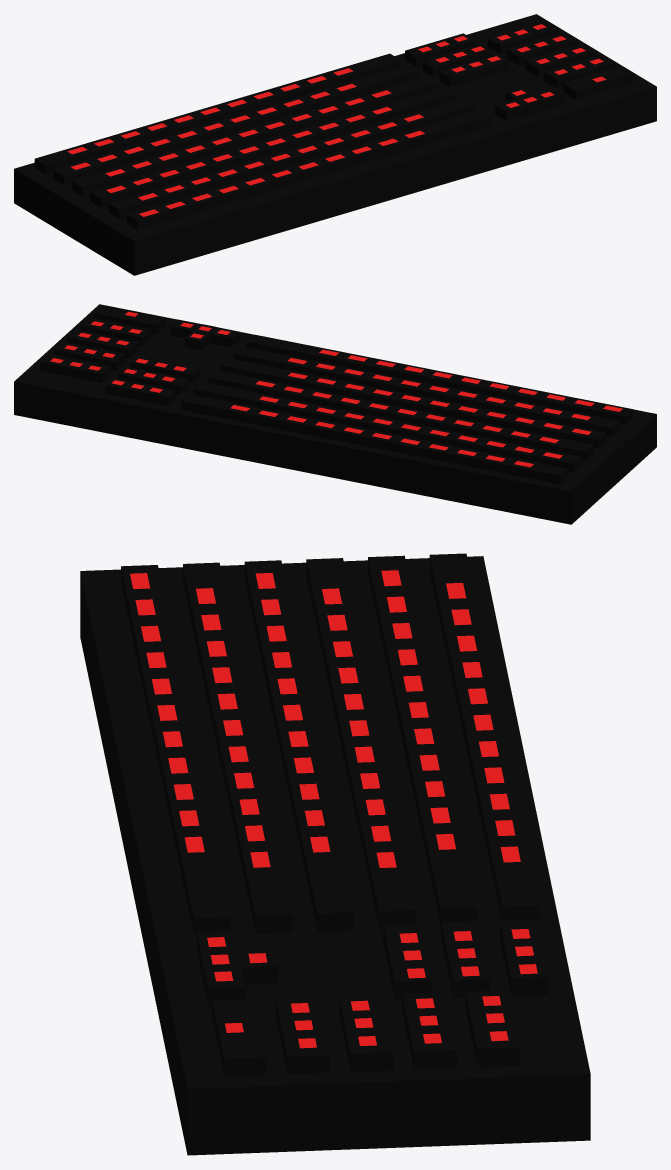
Rendered from Keyboard_shattered.fbx.
3 renders of one model, top to bottom at view 1: azimuth 30°, elevation 25°; view 2: azimuth 150°, elevation 25°; view 3: azimuth 270°, elevation 25°, orthographic. The views are drawn at different scales.
Visible parts, largest first — view 1: Object018, Object027, Object028, Object031, Object030, Object029, Object032, Object017, Object019, Object026, Object021, Object020 (+4 smaller); view 2: Object018, Object032, Object027, Object028, Object030, Object029, Object031, Object017, Object023, Object024, Object019, Object020 (+4 smaller); view 3: Object018, Object029, Object028, Object032, Object030, Object027, Object031, Object017, Object023, Object020, Object019, Object022 (+4 smaller).
Boxes of the visible parts, bbox=[...] form: Object018: bbox=[14, 14, 656, 275]; Object027: bbox=[126, 109, 492, 229]; Object028: bbox=[108, 98, 474, 218]; Object031: bbox=[53, 64, 419, 185]; Object030: bbox=[71, 76, 437, 196]; Object029: bbox=[90, 87, 456, 207]; Object032: bbox=[34, 53, 400, 174]; Object017: bbox=[495, 87, 564, 120]; Object019: bbox=[563, 66, 634, 99]; Object026: bbox=[439, 54, 508, 87]; Object021: bbox=[525, 43, 596, 77]; Object020: bbox=[544, 54, 615, 88]; Object018: bbox=[14, 304, 656, 524]; Object032: bbox=[181, 394, 567, 484]; Object027: bbox=[246, 334, 633, 425]; Object028: bbox=[233, 346, 620, 436]; Object030: bbox=[207, 370, 593, 460]; Object029: bbox=[220, 358, 606, 448]; Object031: bbox=[194, 382, 580, 472]; Object017: bbox=[170, 319, 239, 350]; Object023: bbox=[40, 353, 111, 382]; Object024: bbox=[105, 377, 175, 405]; Object019: bbox=[94, 305, 165, 334]; Object020: bbox=[80, 317, 151, 346]; Object018: bbox=[80, 556, 590, 1155]; Object029: bbox=[244, 560, 354, 931]; Object028: bbox=[183, 562, 292, 933]; Object032: bbox=[429, 553, 539, 923]; Object030: bbox=[306, 558, 415, 929]; Object027: bbox=[121, 565, 230, 936]; Object031: bbox=[368, 555, 477, 926]; Object017: bbox=[196, 930, 278, 1007]; Object023: bbox=[465, 990, 520, 1067]; Object020: bbox=[275, 997, 330, 1074]; Object019: bbox=[212, 999, 266, 1076]; Object022: bbox=[402, 992, 456, 1069].
Size of the model in its own units: 170 by 12.62 by 68.76.
